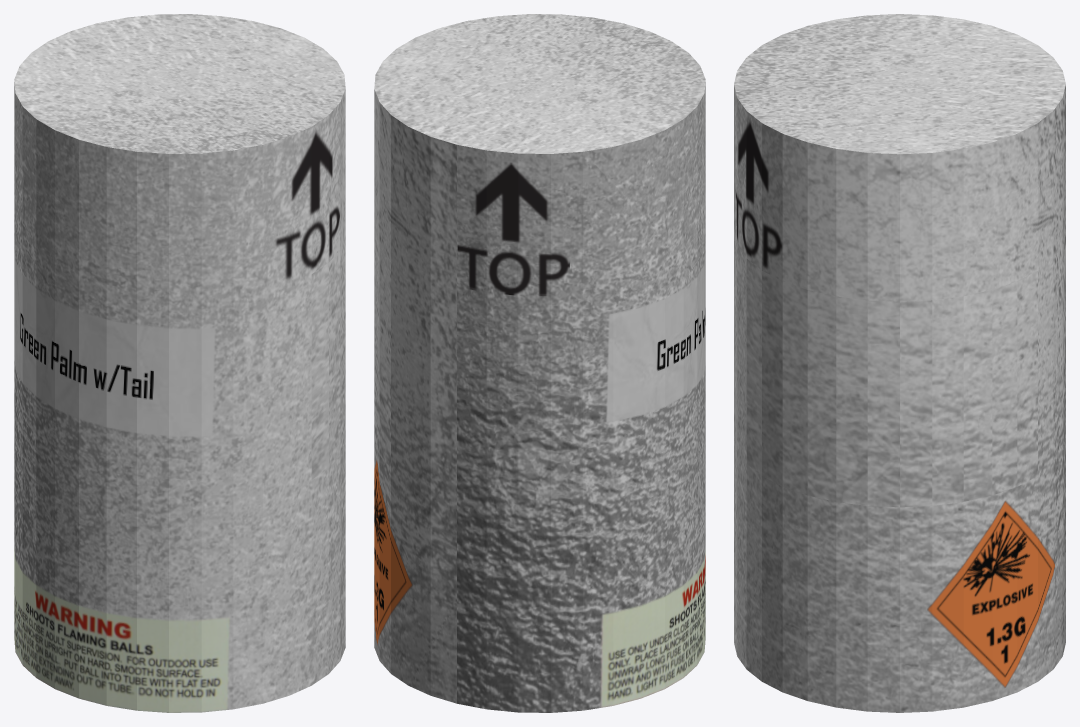
The model's file is Shell Canister 3 Inch GreenPalm.fbx.
3 renders of one model, left to right at view 1: azimuth 30°, elevation 25°; view 2: azimuth 150°, elevation 25°; view 3: azimuth 270°, elevation 25°, orthographic.
Visible parts, largest first — view 1: Cylinder; view 2: Cylinder; view 3: Cylinder.
Boxes of the visible parts, x1=… form: Cylinder: x1=14, y1=14, x2=345, y2=712; Cylinder: x1=374, y1=14, x2=705, y2=712; Cylinder: x1=734, y1=14, x2=1065, y2=712.
Size of the model in its own units: 14 by 26 by 14.
